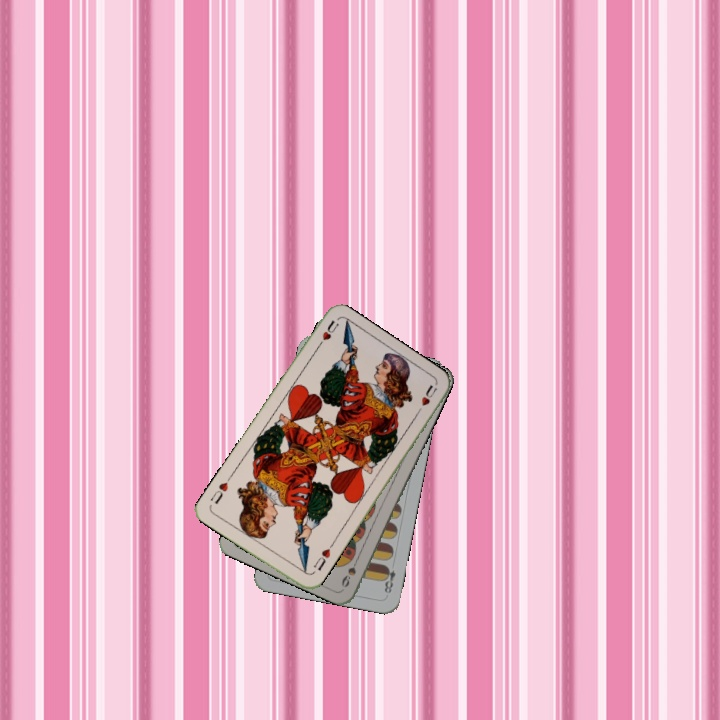E8: (379, 562, 398, 598)
HU: (312, 316, 341, 352), (309, 541, 335, 574)
S9: (337, 552, 362, 590)
